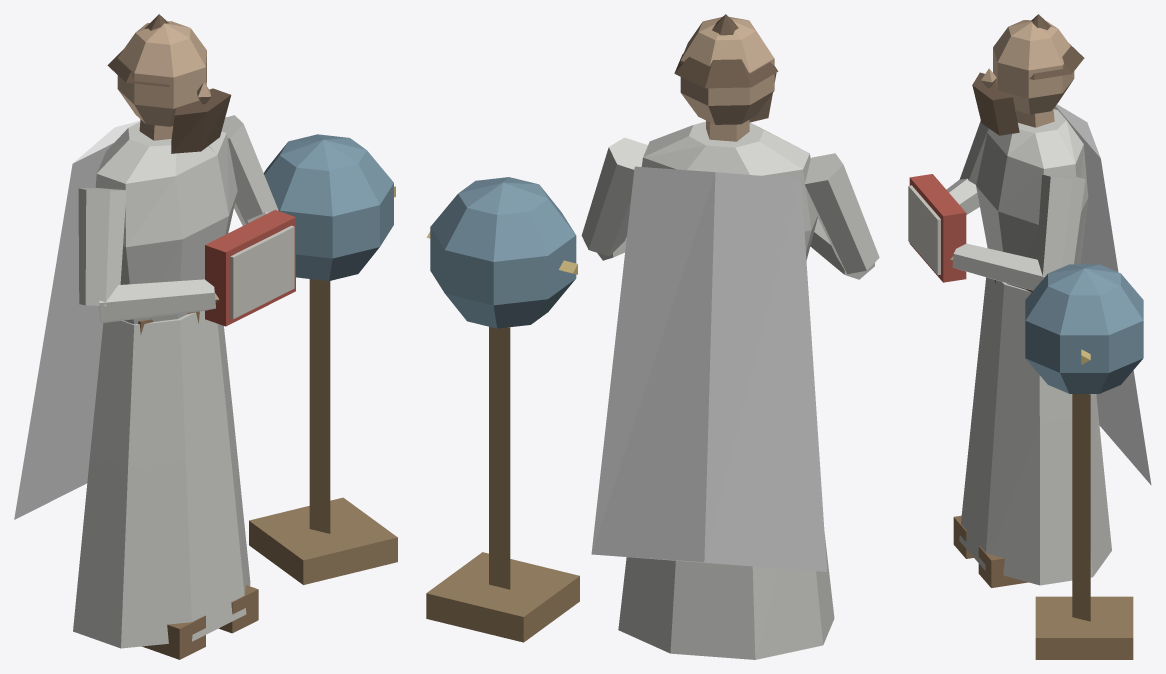
File: scientist.glb
3 renders of one model, left to right at view 1: azimuth 30°, elevation 25°; view 2: azimuth 150°, elevation 25°; view 3: azimuth 270°, elevation 25°, orthographic. The views are drawn at different scales.
Parts seen in each view (by area): view 1: LOD0; view 2: LOD0; view 3: LOD0.
Part boxes in pixels (bbox=[...]): LOD0: bbox=[14, 14, 397, 659]; LOD0: bbox=[426, 14, 879, 659]; LOD0: bbox=[908, 14, 1151, 659].
Size of what is drawn, in the model's own units: 0.6476 by 0.979 by 0.3978.
